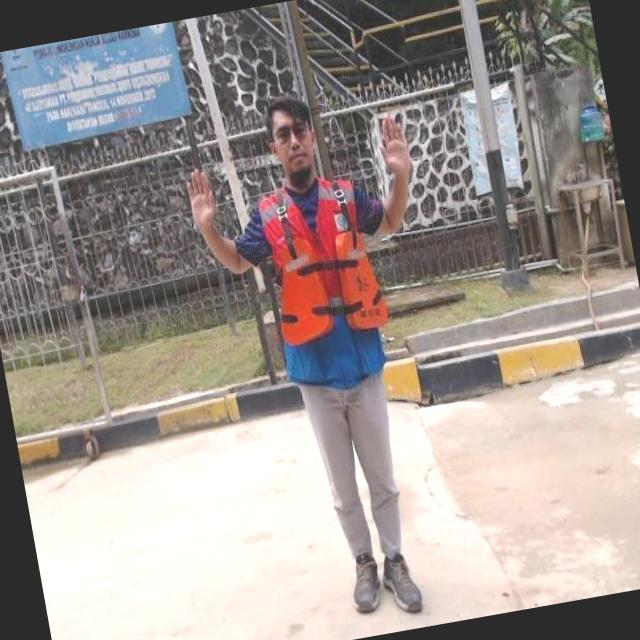vest: (252, 171, 401, 394)
